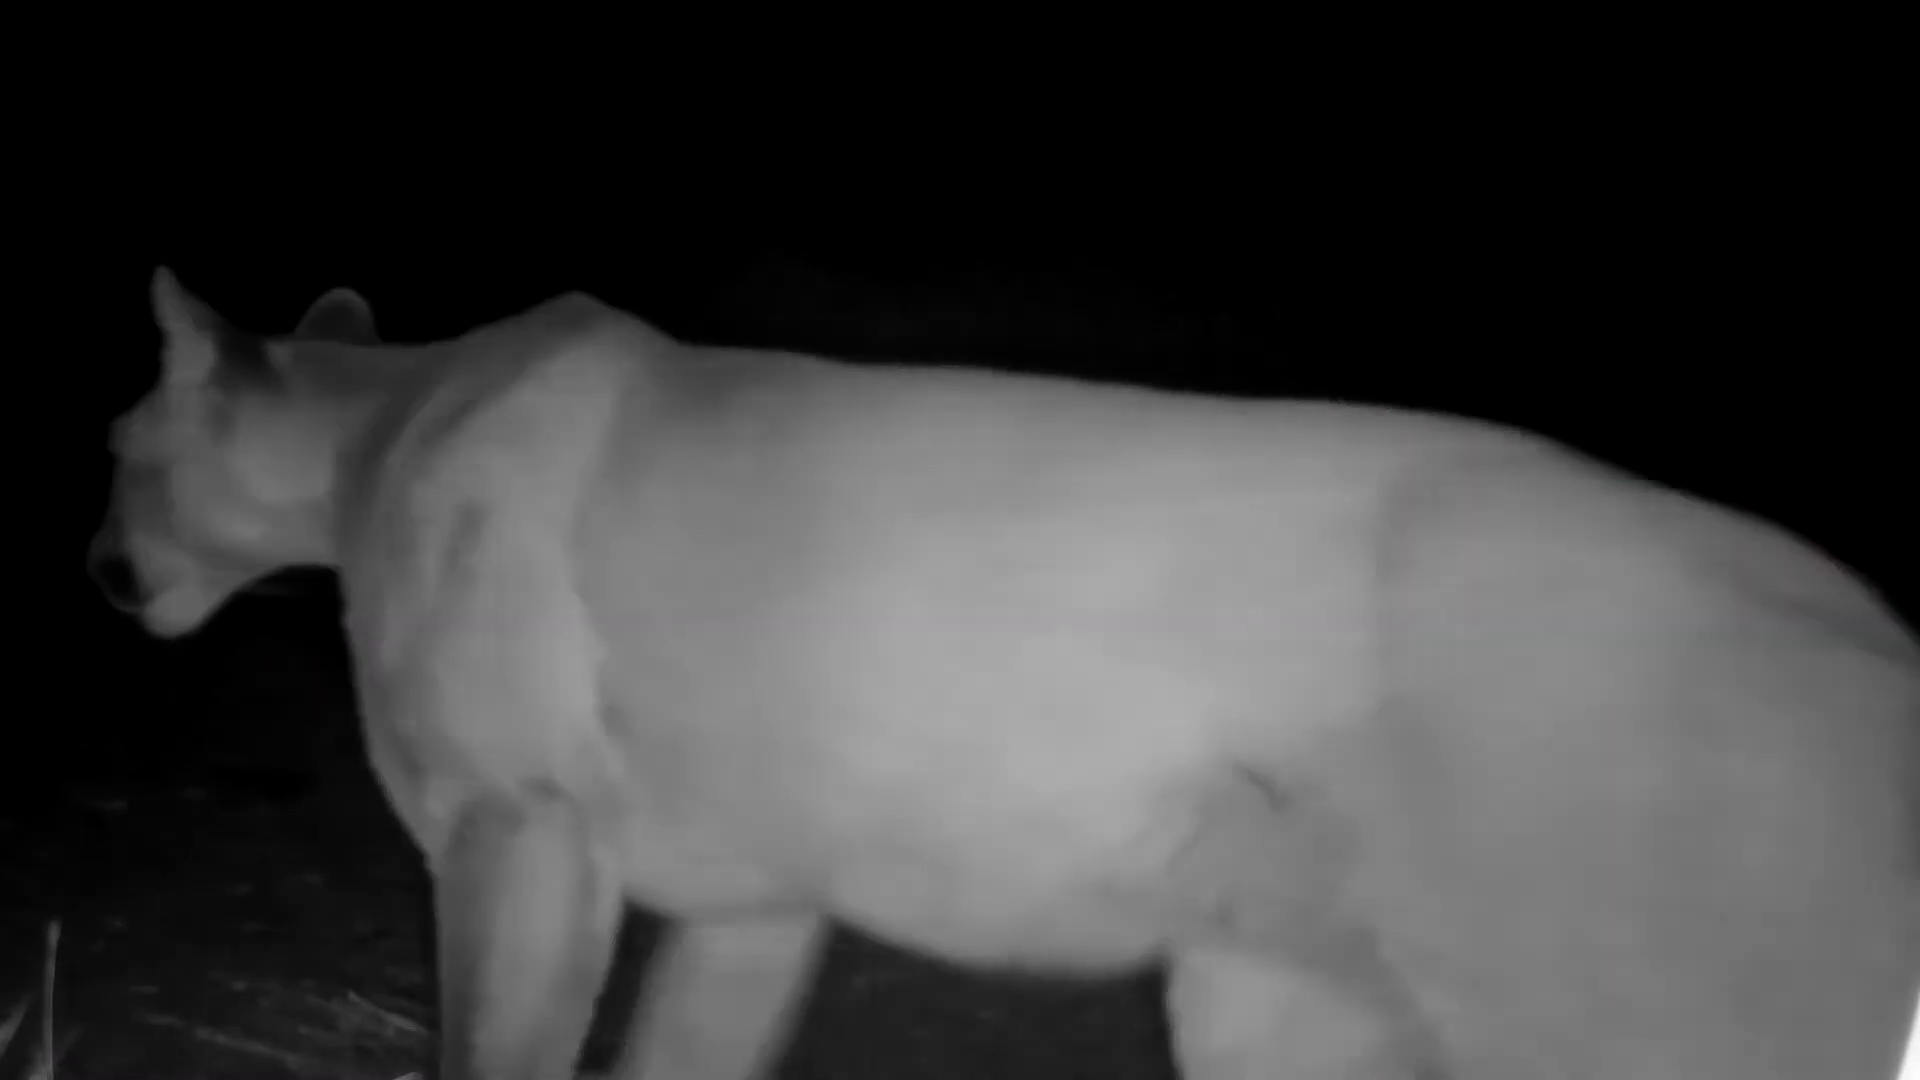Lion: (83, 266, 1920, 1080)
